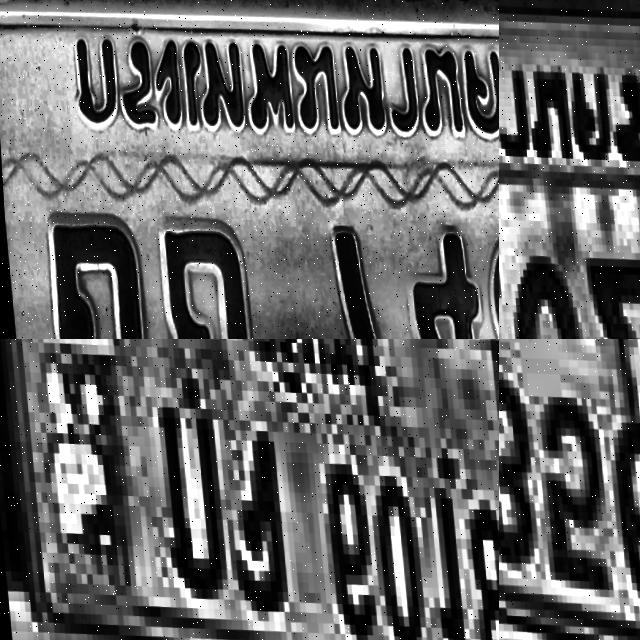license-plate: (0, 0, 499, 339), (0, 339, 499, 640), (499, 0, 640, 339), (499, 339, 640, 640)
